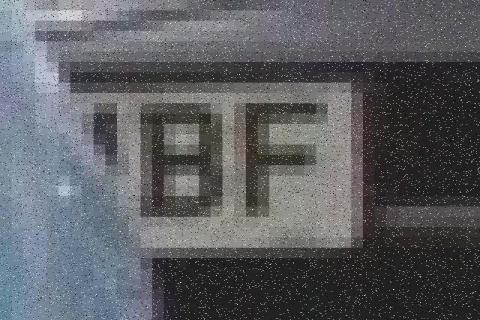LicensePlate: (44, 54, 396, 270)
